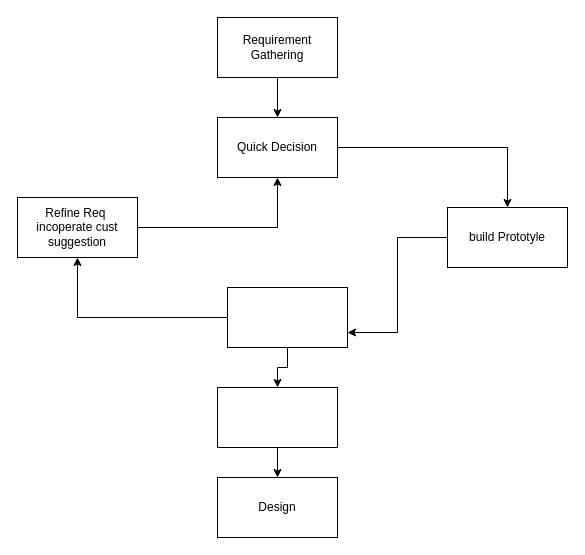
The diagram is 585 pixels wide and 555 high, and some of its shapes have lost their labels. Each missing label, with the centre of its shape:
"Acceptance by cust" belongs at (277,417).
"Customer evaluation for prototype" belongs at (287,317).
